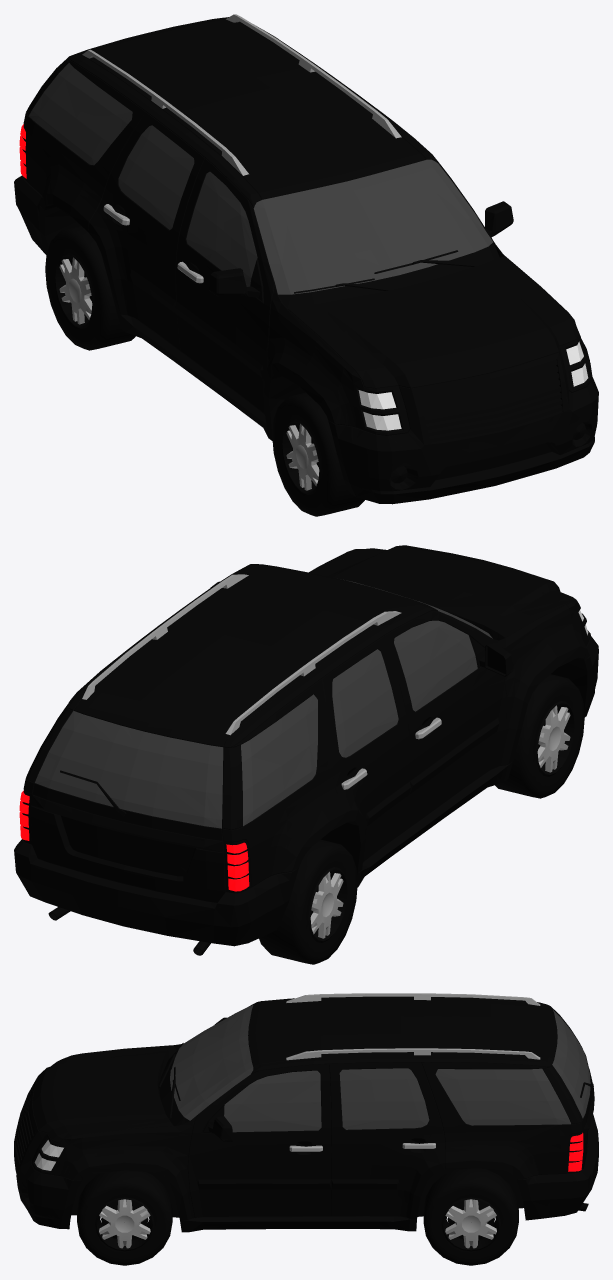
Rendered from CamionetaNegra.fbx.
The picture shows the model from 3 angles, top to bottom: view 1: azimuth 30°, elevation 25°; view 2: azimuth 150°, elevation 25°; view 3: azimuth 270°, elevation 25°; orthographic projection. The views are drawn at different scales.
Parts seen in each view (by area): view 1: Wheel_E002.012; view 2: Wheel_E002.012; view 3: Wheel_E002.012.
Part boxes in pixels (box(x1,y1,x2,y2)): Wheel_E002.012: box(14, 14, 598, 516); Wheel_E002.012: box(14, 545, 598, 964); Wheel_E002.012: box(14, 993, 598, 1265).
Bounding box in the file's own units: 233 × 195 × 519.
